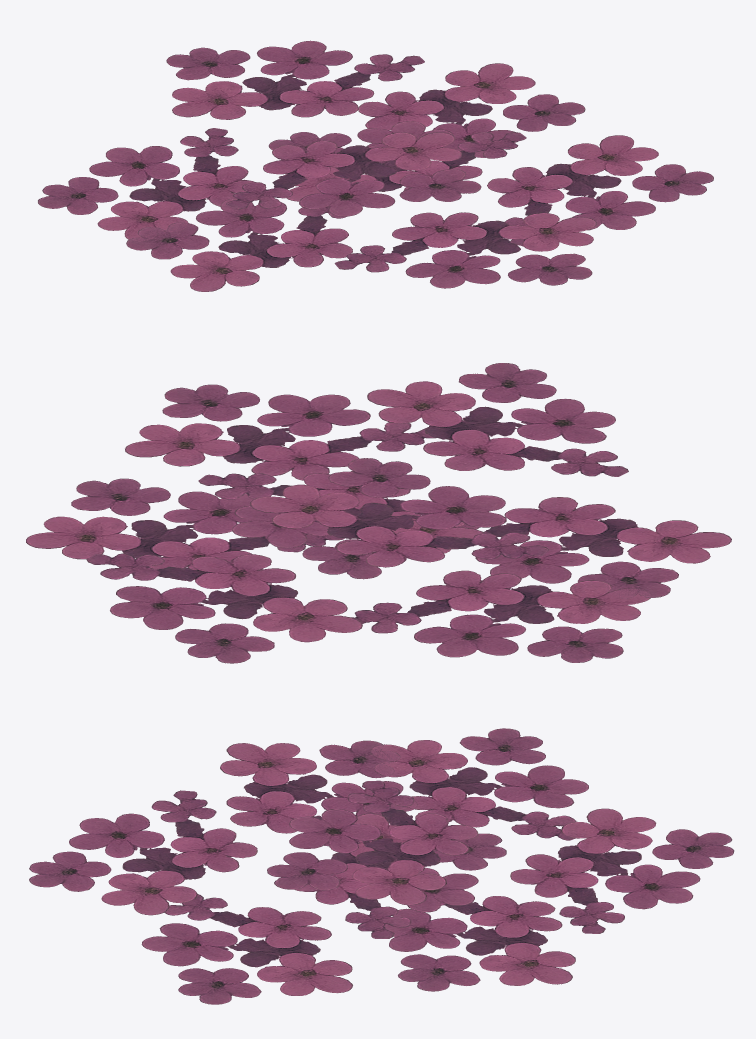
File: plant03_(PinkFlower)GR.fbx
3 views of the same model, one above another, from view 1: azimuth 30°, elevation 25°; view 2: azimuth 150°, elevation 25°; view 3: azimuth 270°, elevation 25° (orthographic). The views are drawn at different scales.
Parts seen in each view (by area): view 1: Plane003; view 2: Plane003; view 3: Plane003.
Part boxes in pixels (<box>): Plane003: <box>38,40,713,291</box>; Plane003: <box>26,363,731,663</box>; Plane003: <box>29,728,734,1004</box>.
Size of the model in its own units: 60.79 by 1.21 by 59.19.
Materials: 1 (1 with a texture image).
